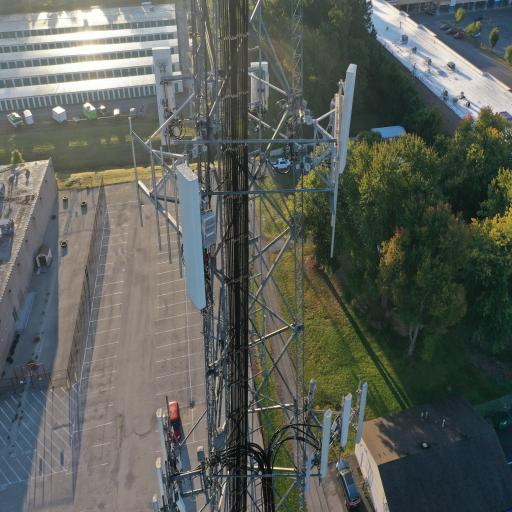supporting_tower: (122, 0, 366, 512)
